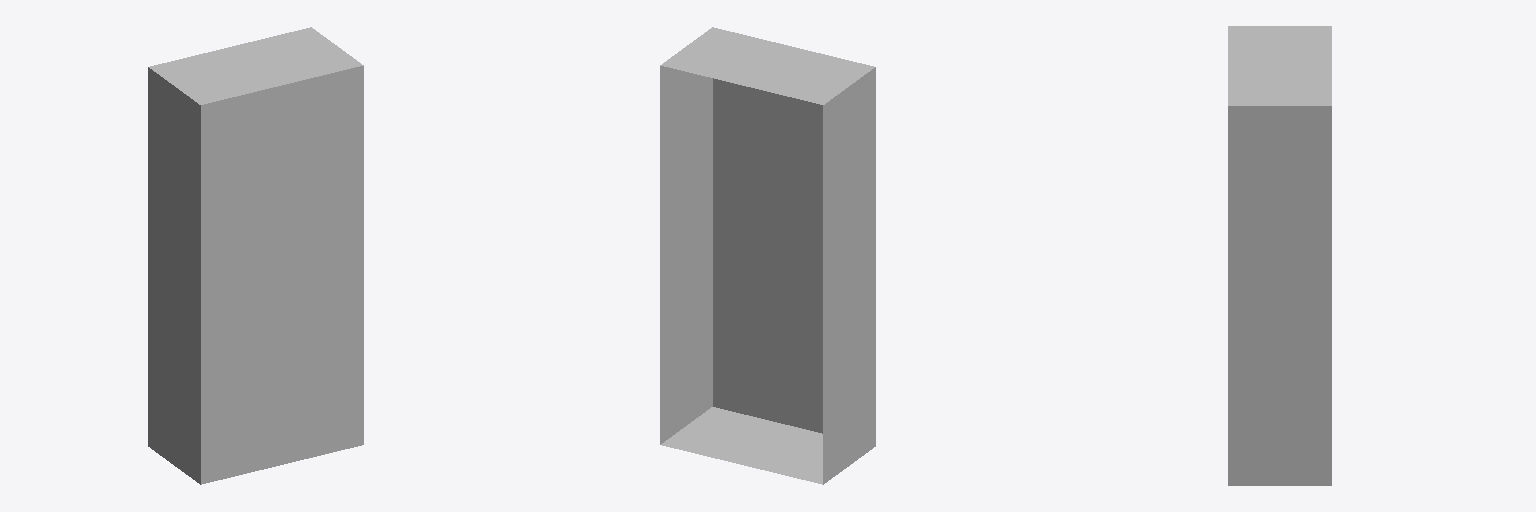
File: original-6.obj
3 views of the same model, side by side, from view 1: azimuth 30°, elevation 25°; view 2: azimuth 150°, elevation 25°; view 3: azimuth 270°, elevation 25° (orthographic).
Parts seen in each view (by area): view 1: #ID73; view 2: #ID73; view 3: #ID73.
Part boxes in pixels (bbox=[...]): #ID73: bbox=[148, 27, 363, 484]; #ID73: bbox=[660, 27, 875, 484]; #ID73: bbox=[1228, 26, 1331, 485].
Size of the model in its own units: 0.1068 by 0.2374 by 0.0593.